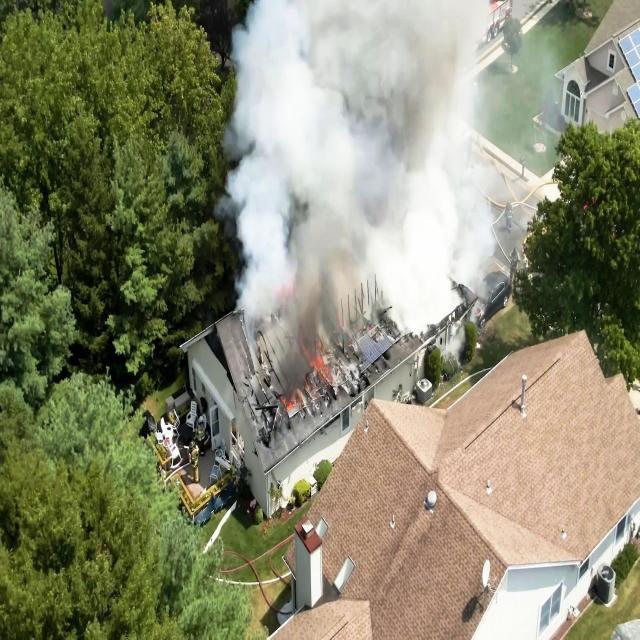Fire: (276, 342, 345, 416)
Smoke: (228, 2, 512, 332)
